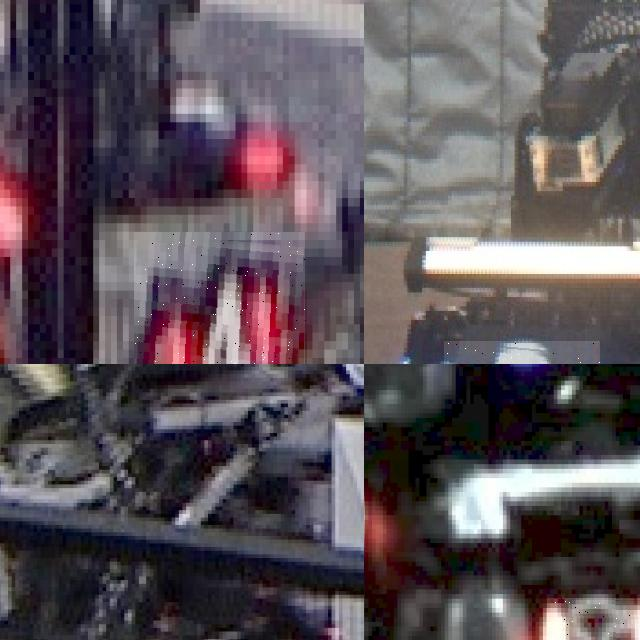R4: (134, 231, 306, 364)
Rs: (546, 598, 640, 640)
